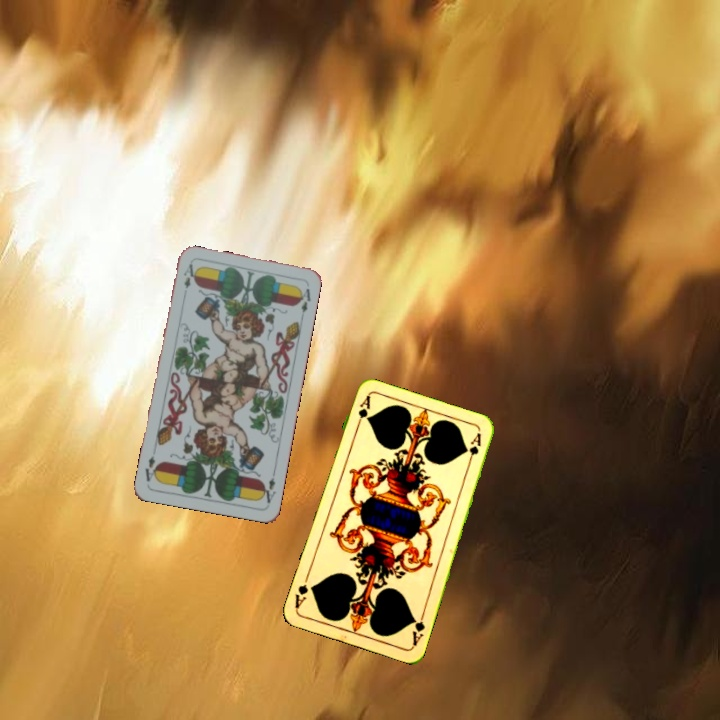EA: (257, 467, 279, 506), (179, 260, 196, 300)
GA: (352, 392, 373, 432), (408, 608, 427, 648)
